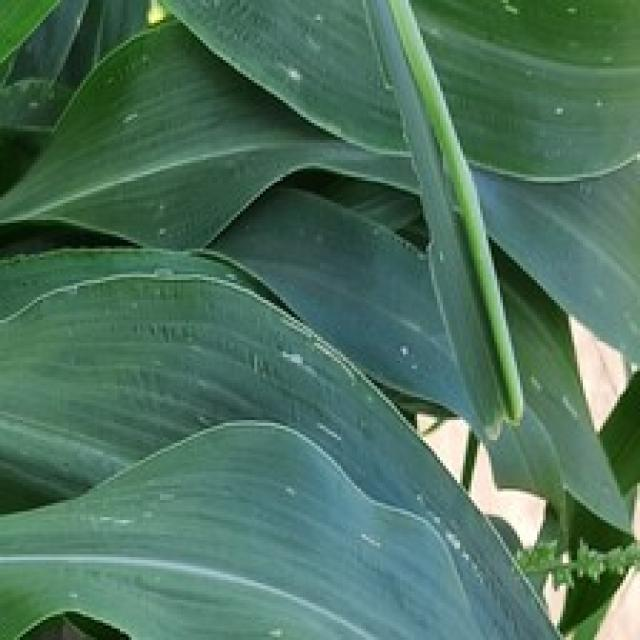Corn: (0, 0, 637, 637), (146, 0, 637, 183)
